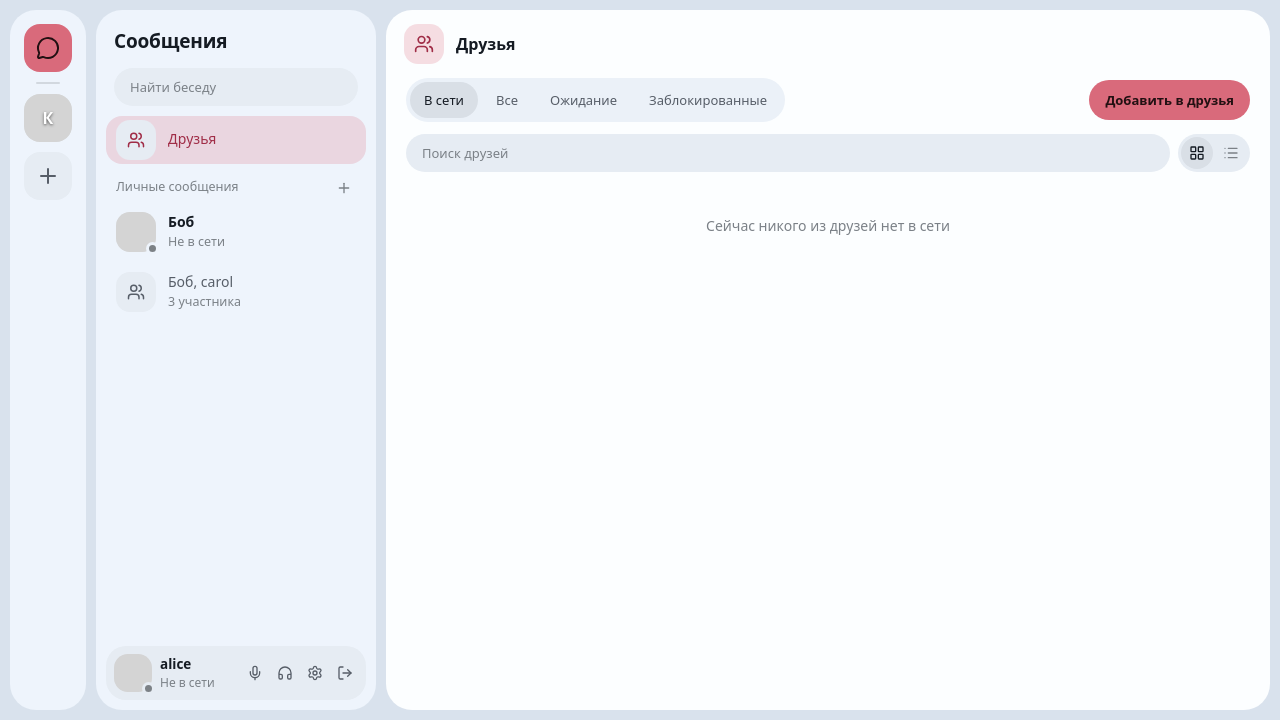
adding a server › shows the server an invite leads to before joining
Click the button named "Добавить сервер": x=48, y=176 x1=24 y1=152 x2=72 y2=200
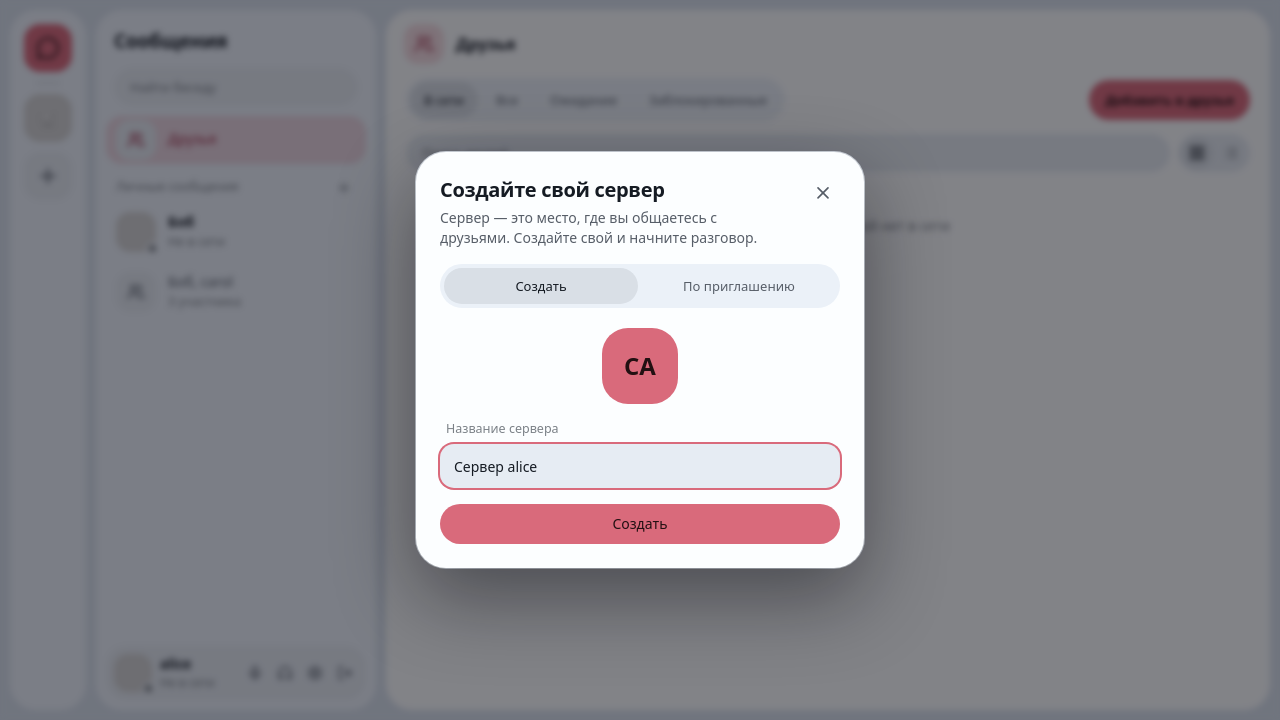
Click the tab "По приглашению": x=739, y=286 x1=642 y1=268 x2=836 y2=304
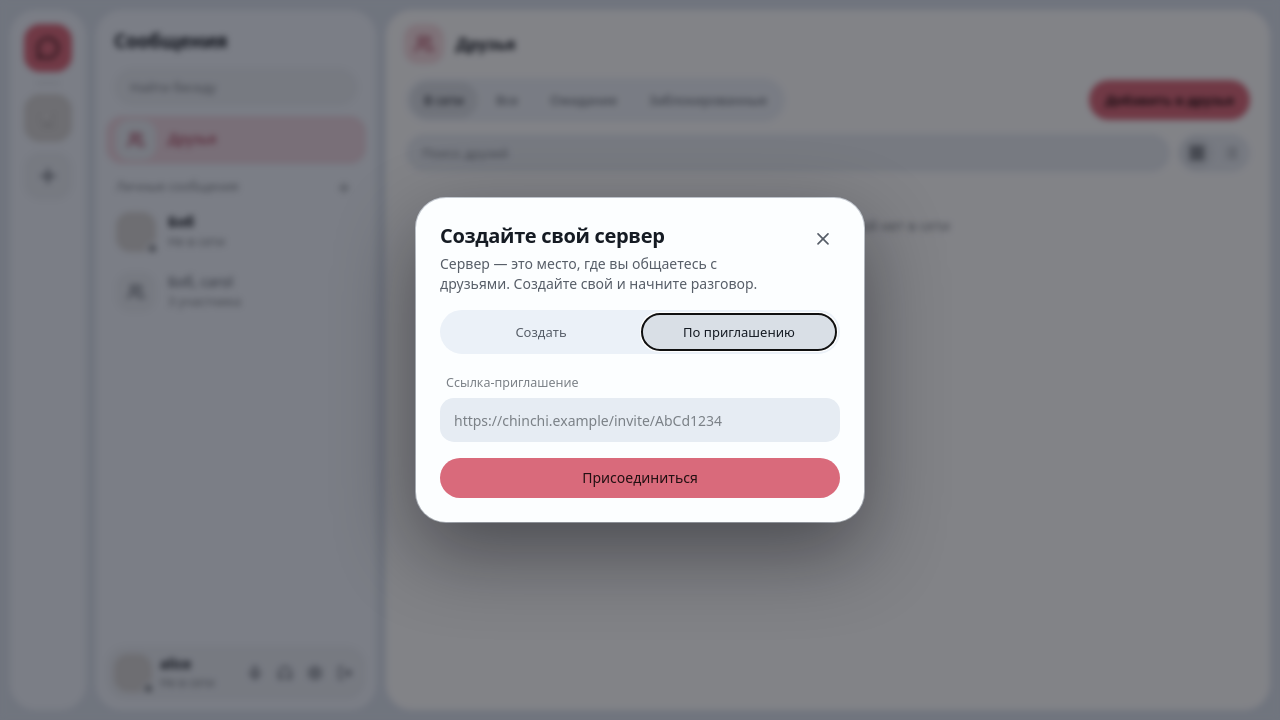
In the field labelled "Ссылка-приглашение": x=640, y=420 x1=440 y1=398 x2=840 y2=442, type "AbCd1234"
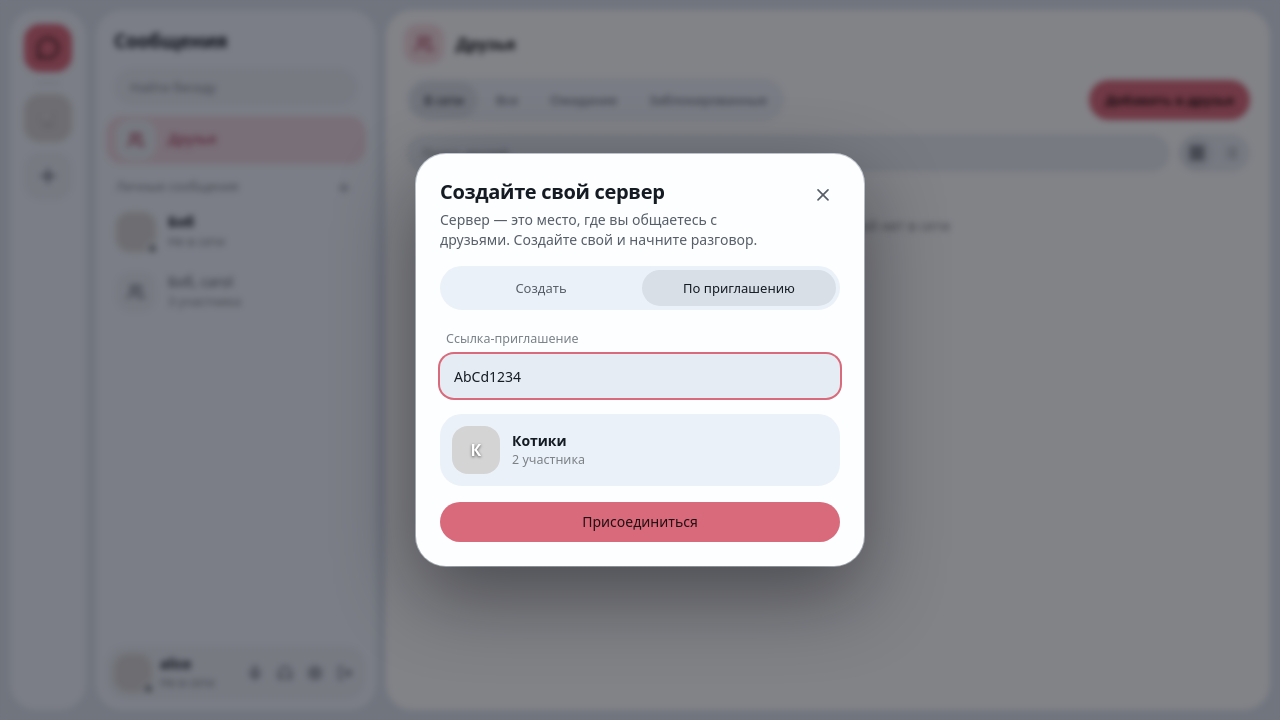
Now the element "Котики" shows "2 участника", box x1=512 y1=451 x2=585 y2=468
